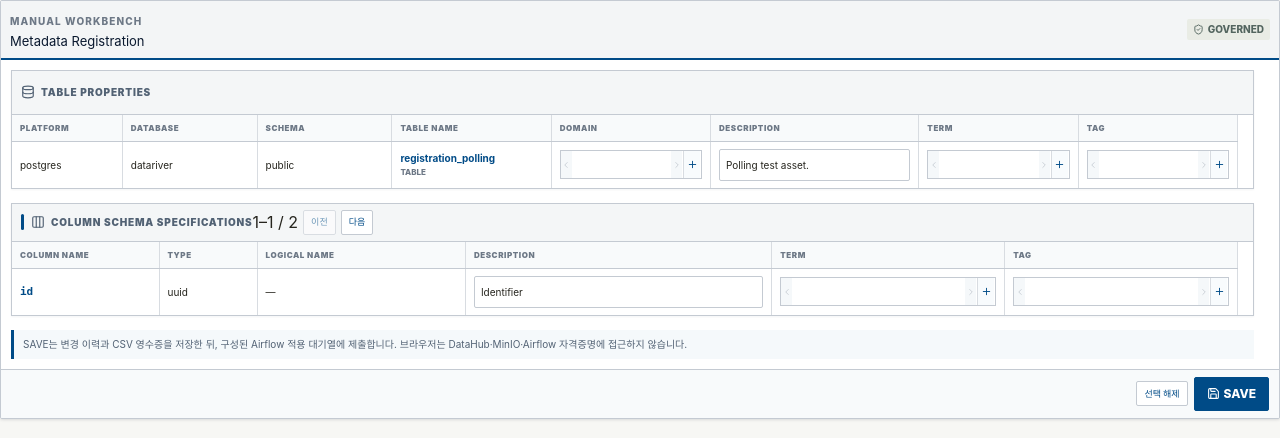
Scenario: Registration workbench › does not present a late save as the result of newer edits or field-page navigation
The image size is (1280, 438).
Click the button "SAVE": (1231, 394) [1194,376,1269,410]
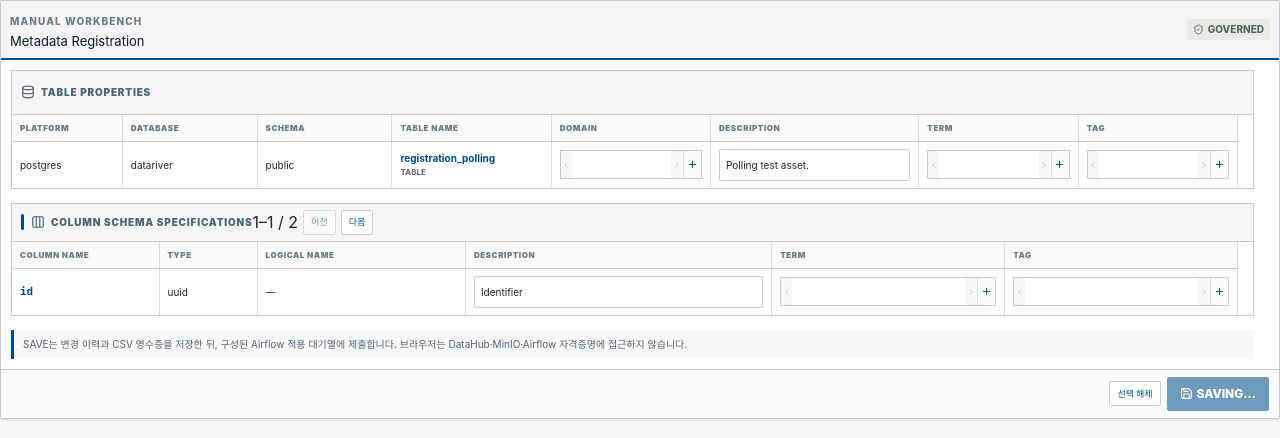
Replace the text in the field named "테이블 Description" with "A newer unsaved description.": (815, 164) [719,148,910,180]
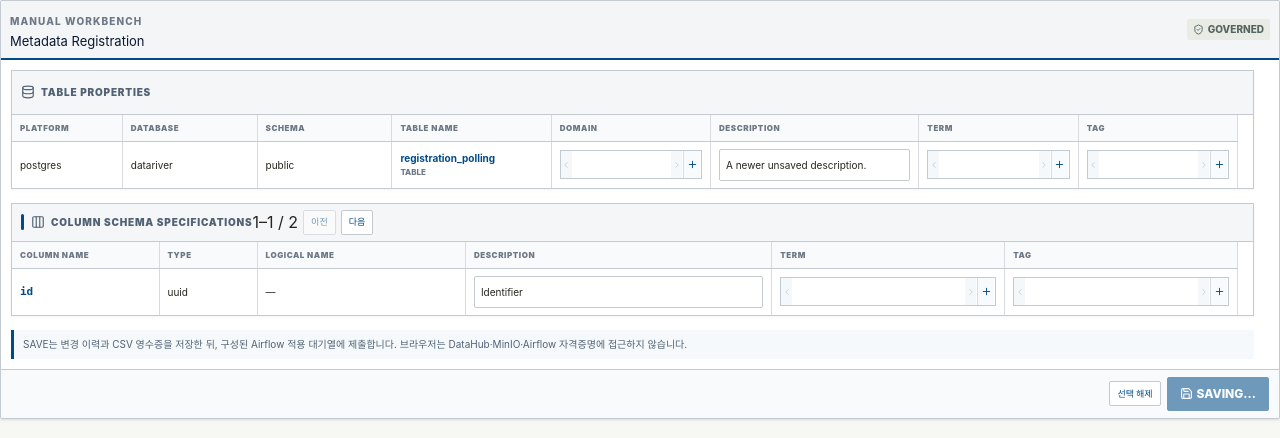
Click the button "다음": (357, 222) [341,210,373,234]
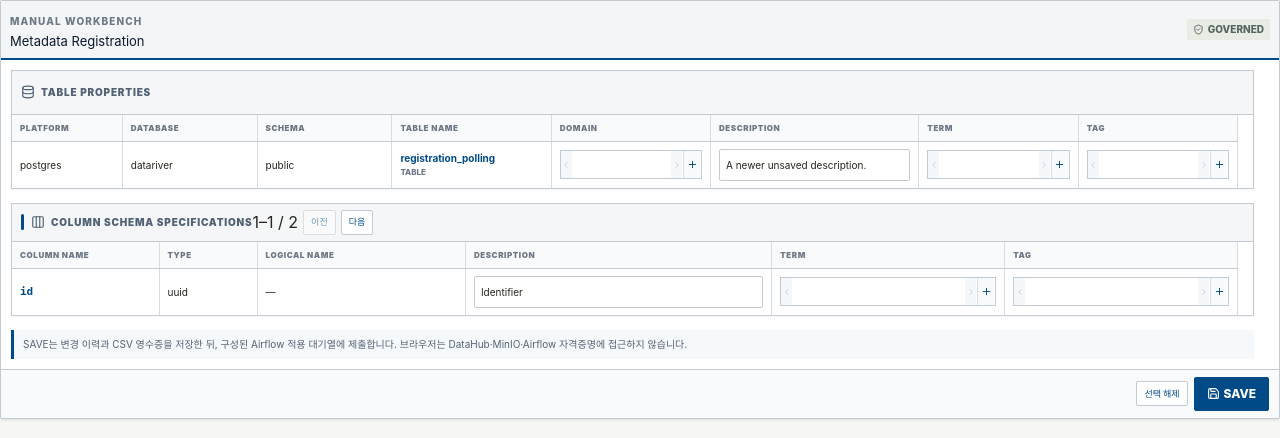
Expected: the button "SAVE" is enabled, [1194,376,1269,410]
